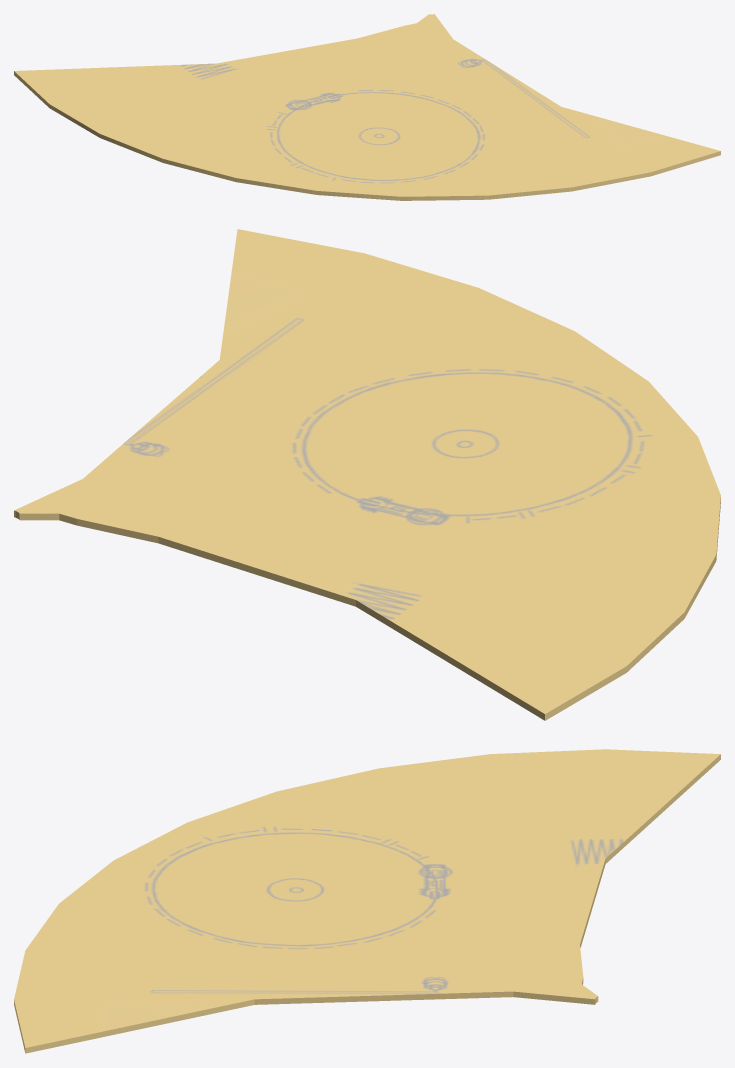
The model's file is RecordPiece2.fbx.
3 renders of one model, top to bottom at view 1: azimuth 30°, elevation 25°; view 2: azimuth 150°, elevation 25°; view 3: azimuth 270°, elevation 25°, orthographic. The views are drawn at different scales.
Visible parts, largest first — view 1: RecordPiece2; view 2: RecordPiece2; view 3: RecordPiece2.
Part boxes in pixels (left/top/right/bottom): RecordPiece2: left=14, top=14, right=720, bottom=200; RecordPiece2: left=14, top=229, right=720, bottom=720; RecordPiece2: left=14, top=749, right=720, bottom=1053.
Size of the model in its own units: 34.47 by 0.3 by 34.47.
1 material, 1 textured.
